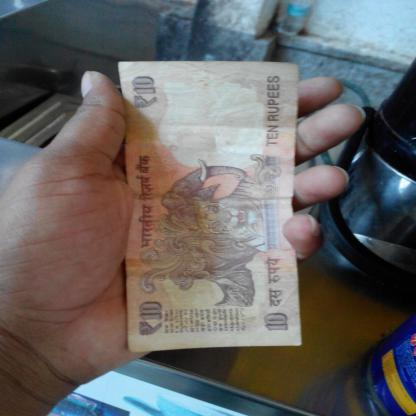Old10Back: (115, 60, 304, 353)
